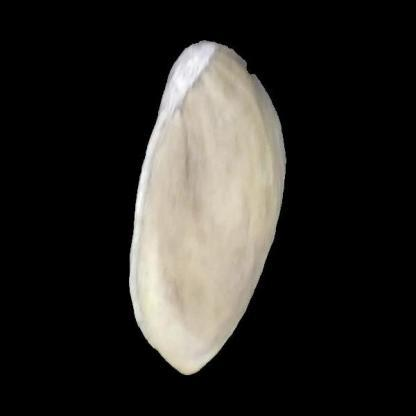pistachio: (129, 37, 289, 378)
